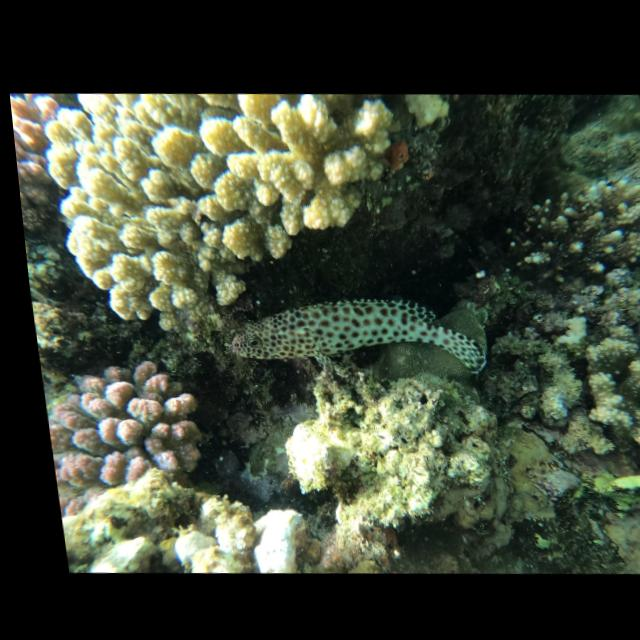Groupers: (225, 287, 492, 383)
